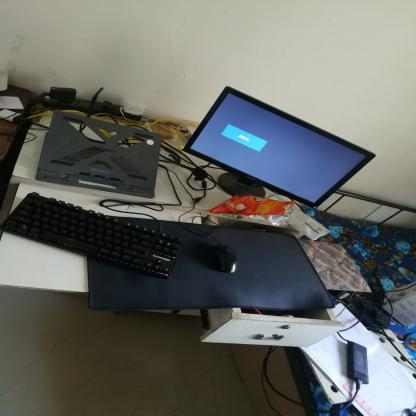hot_and_sweet: (211, 189, 300, 229)
